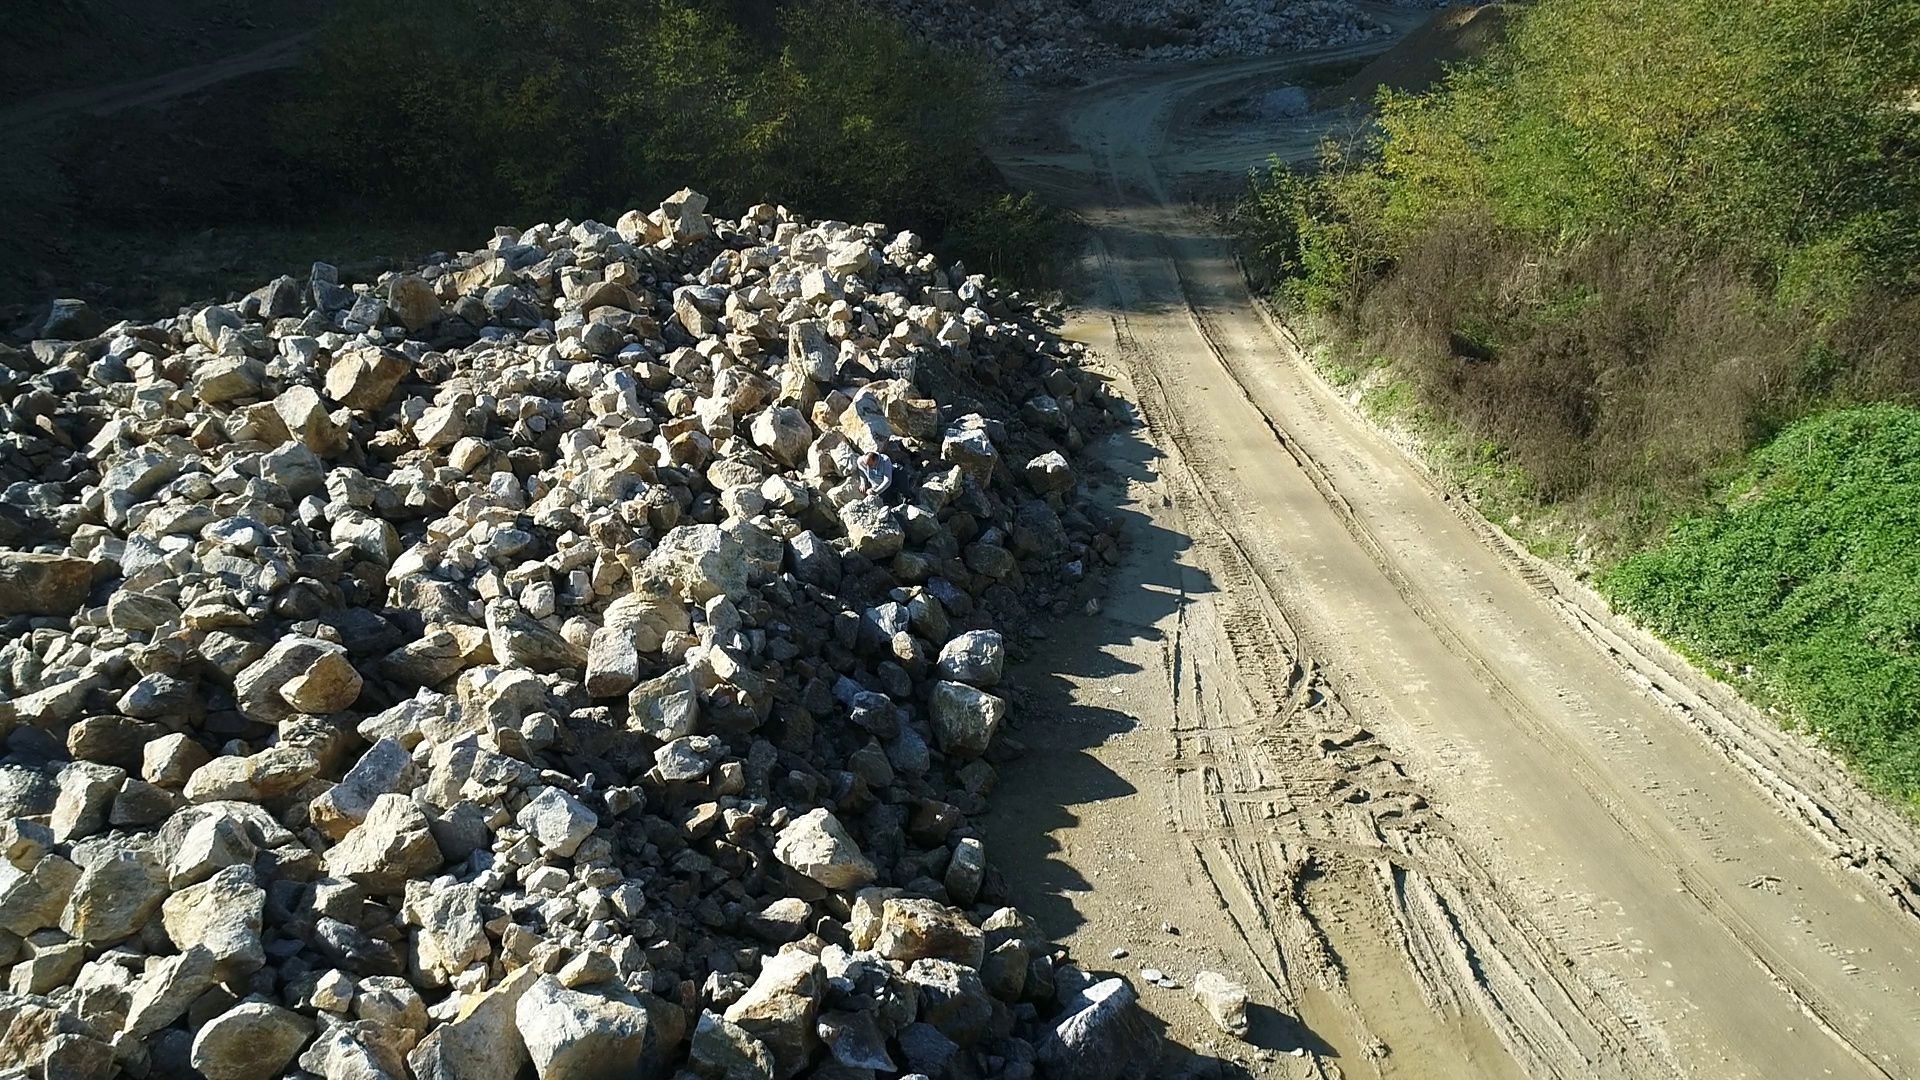not_defined: (852, 448, 913, 506)
